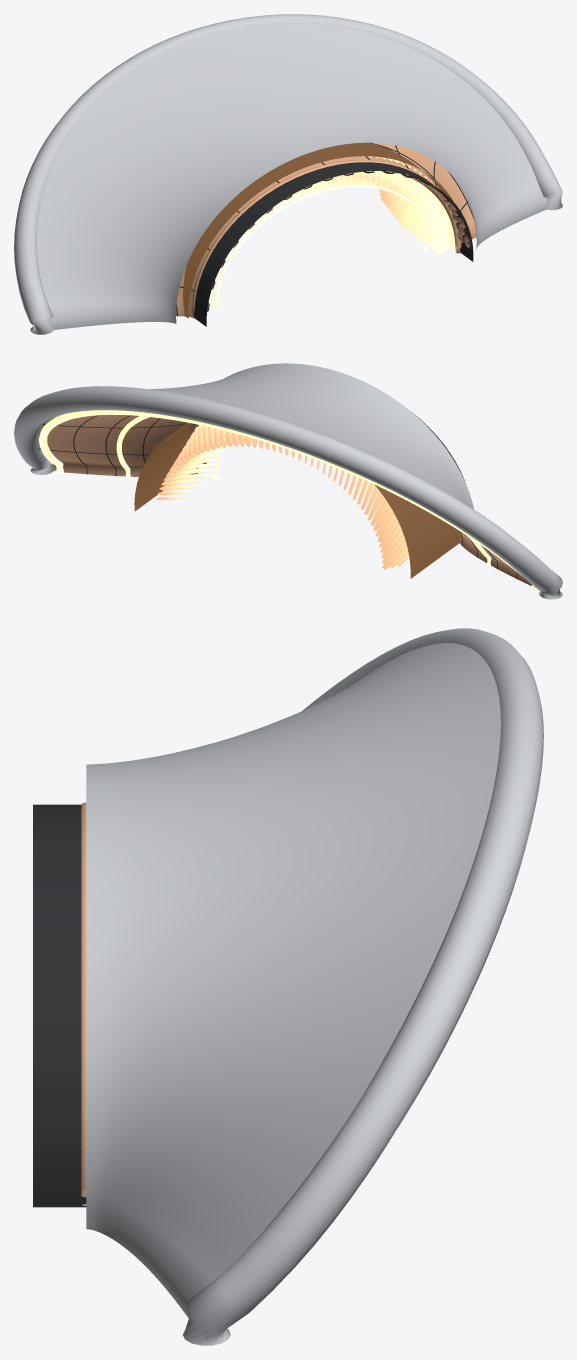
The model's file is calder_tunnel_kit.glb.
3 views of the same model, one above another, from view 1: azimuth 30°, elevation 25°; view 2: azimuth 150°, elevation 25°; view 3: azimuth 270°, elevation 25° (orthographic). The views are drawn at different scales.
Parts seen in each view (by area): view 1: Hood_Shell, Hood_RimRoll, FinBay_Blades, HexRing_Back, FinBay_Back, Hood_Lining, ThroatRing_Band, FinBay_Ring, HexRing_Face, HexRing_Edge; view 2: Hood_RimRoll, Hood_Shell, Hood_Lining, FinBay_Blades, FinBay_Back, Hood_LipLED, Hood_InsetLED; view 3: Hood_Shell, Hood_RimRoll, HexRing_Back, ThroatRing_Band.
Boxes of the visible parts, <box> form: Hood_Shell: <box>33,23,547,331</box>; Hood_RimRoll: <box>14,14,562,334</box>; FinBay_Blades: <box>209,156,452,306</box>; HexRing_Back: <box>193,162,473,326</box>; FinBay_Back: <box>183,142,452,318</box>; Hood_Lining: <box>176,143,476,317</box>; ThroatRing_Band: <box>192,160,461,316</box>; FinBay_Ring: <box>216,185,437,309</box>; HexRing_Face: <box>207,171,470,310</box>; HexRing_Edge: <box>207,171,472,311</box>; Hood_RimRoll: <box>14,386,562,599</box>; Hood_Shell: <box>38,363,473,509</box>; Hood_Lining: <box>38,414,531,585</box>; FinBay_Blades: <box>156,425,409,569</box>; FinBay_Back: <box>134,422,460,578</box>; Hood_LipLED: <box>39,410,537,589</box>; Hood_InsetLED: <box>116,416,491,565</box>; Hood_Shell: <box>86,643,500,1342</box>; Hood_RimRoll: <box>183,628,543,1345</box>; HexRing_Back: <box>33,804,86,1207</box>; ThroatRing_Band: <box>81,802,86,1205</box>.
Bounding box in the file's own units: 50.87 × 17.13 × 21.22.
